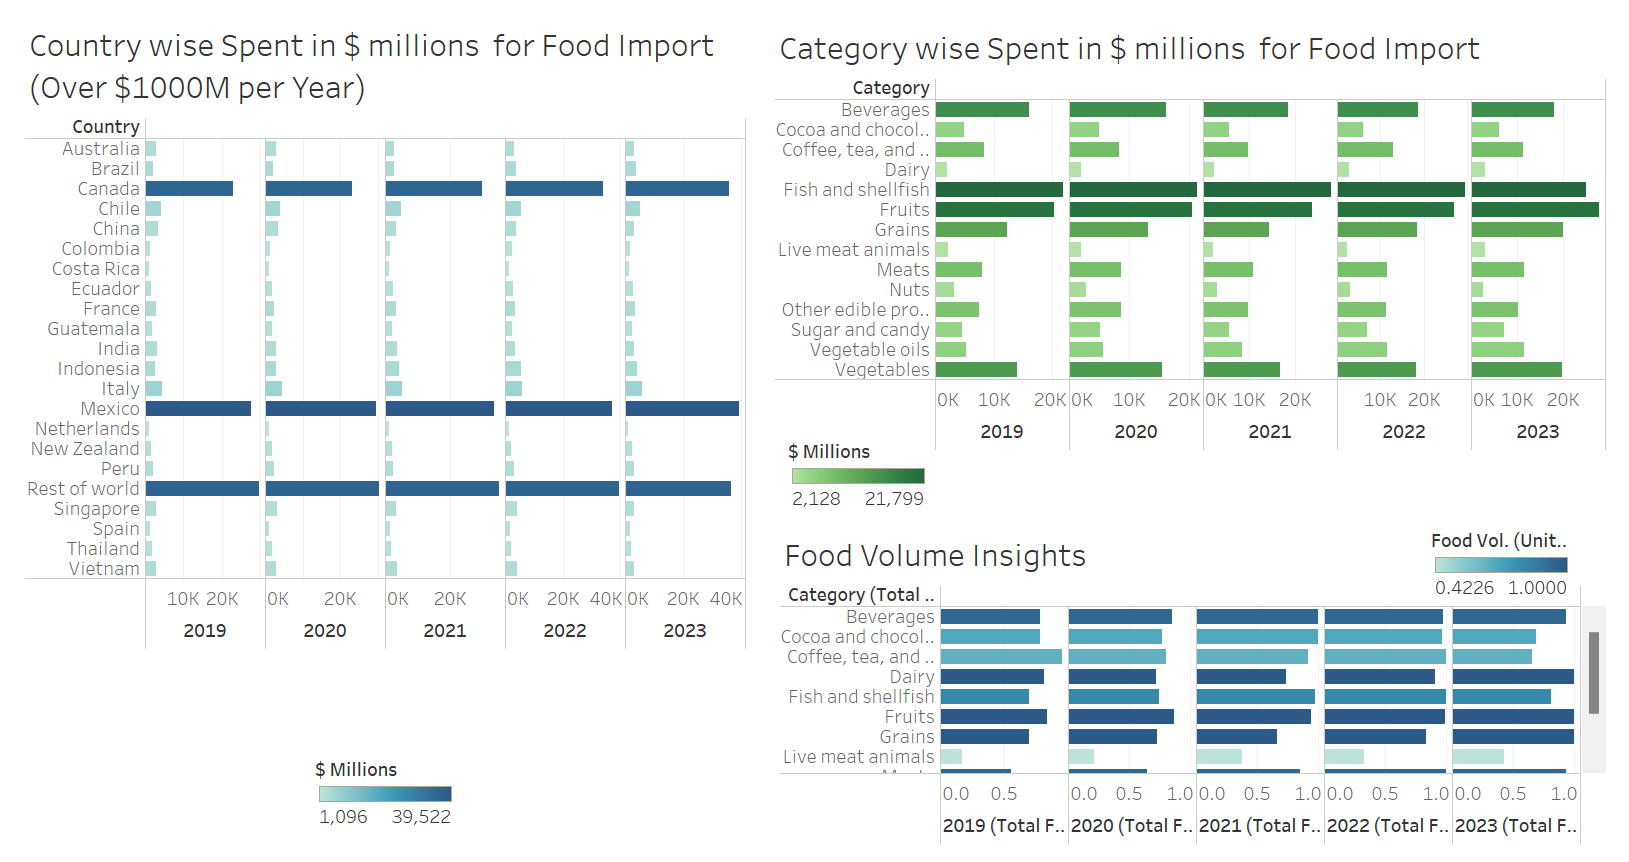

The dashboard page shown, as its layout file describes it:
{"tool":"tableau","page":{"name":"Dashboard 1","canvas":[1000,1000],"units":"permille","ordinal":0},"visuals":[{"type":"worksheet","title":"Country Distribution","mark":"Automatic","rows":["Country"],"cols":["2019","2020","2021","2022","2023"],"box":[10.6,30.8,446.4,933]},{"type":"worksheet","title":"Category Distribution","mark":"Automatic","rows":["Category"],"cols":["2019","2020","2021","2022","2023"],"box":[473.2,34.9,513.7,597.9]},{"type":"legend","title":"Category Distribution","param":"[federated.12nncou1fhrzoc1dpo6eq0pa4hmg].[sum:2019:qk]","box":[481.3,518.8,87.3,134.1]},{"type":"legend","title":"Food Volume Insights","param":"[federated.12nncou1fhrzoc1dpo6eq0pa4hmg].[sum:2023 (Total Food Vols (Normalized)","box":[878.4,622,87.3,134.1]},{"type":"worksheet","title":"Food Volume Insights","mark":"Automatic","rows":["Category (Total Food Vols (Normalized))"],"cols":["2019 (Total Food Vols (Normalized))","2020 (Total Food Vols (Normalized))","2021 (Total Food Vols (Normalized))","2022 (Total Food Vols (Normalized))","2023 (Total Food Vols (Normalized))"],"box":[476.3,624.7,510.6,367.3]},{"type":"legend","title":"Country Distribution","param":"[federated.12nncou1fhrzoc1dpo6eq0pa4hmg].[sum:2023:qk]","box":[189.5,888.7,87.3,100.5]}]}

Visuals, with their boxes on the dashboard's canvas, which has no fixed pixel size, in thousandths of its width and height (x1, y1, x2, y2). These are canvas units, not pixel positions in the 1629x862 screenshot, which may show the page scaled, cropped or inside an application window:
"Country Distribution" worksheet: (x1=11, y1=31, x2=457, y2=964)
"Category Distribution" worksheet: (x1=473, y1=35, x2=987, y2=633)
"Category Distribution" legend: (x1=481, y1=519, x2=569, y2=653)
"Food Volume Insights" legend: (x1=878, y1=622, x2=966, y2=756)
"Food Volume Insights" worksheet: (x1=476, y1=625, x2=987, y2=992)
"Country Distribution" legend: (x1=190, y1=889, x2=277, y2=989)
